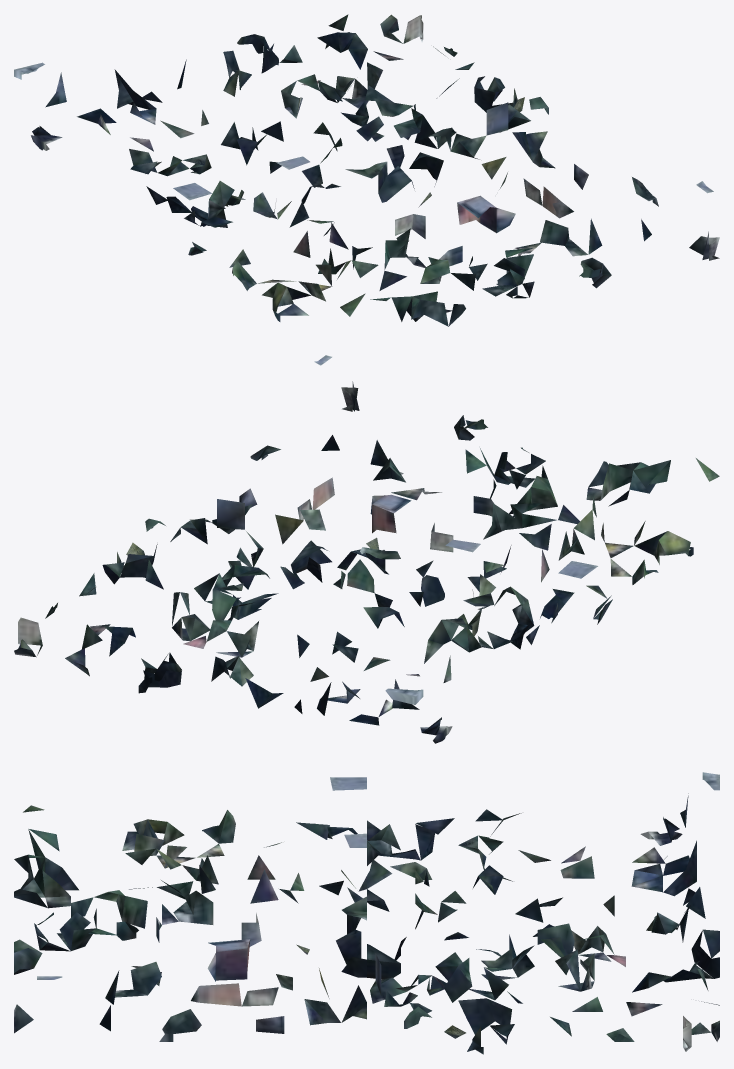
3 views of the same model, one above another, from view 1: azimuth 30°, elevation 25°; view 2: azimuth 150°, elevation 25°; view 3: azimuth 270°, elevation 25° (orthographic). The views are drawn at different scales.
Parts seen in each view (by area): view 1: 30436272704370404_1; view 2: 30436272704370404_1; view 3: 30436272704370404_1.
Part boxes in pixels (x1=…): 30436272704370404_1: x1=14, y1=14, x2=719, y2=326; 30436272704370404_1: x1=14, y1=355, x2=719, y2=743; 30436272704370404_1: x1=14, y1=772, x2=719, y2=1054.
Bounding box in the file's own units: 219 × 37.05 × 306.
1 material, 1 textured.
